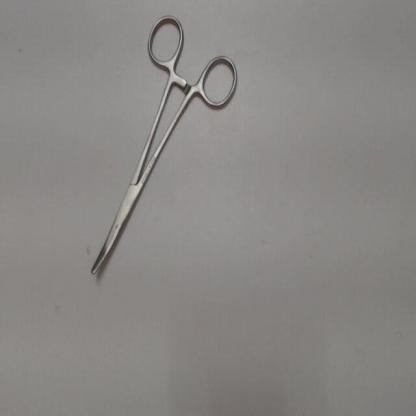Crile Artery Forceps: (83, 9, 242, 285)
